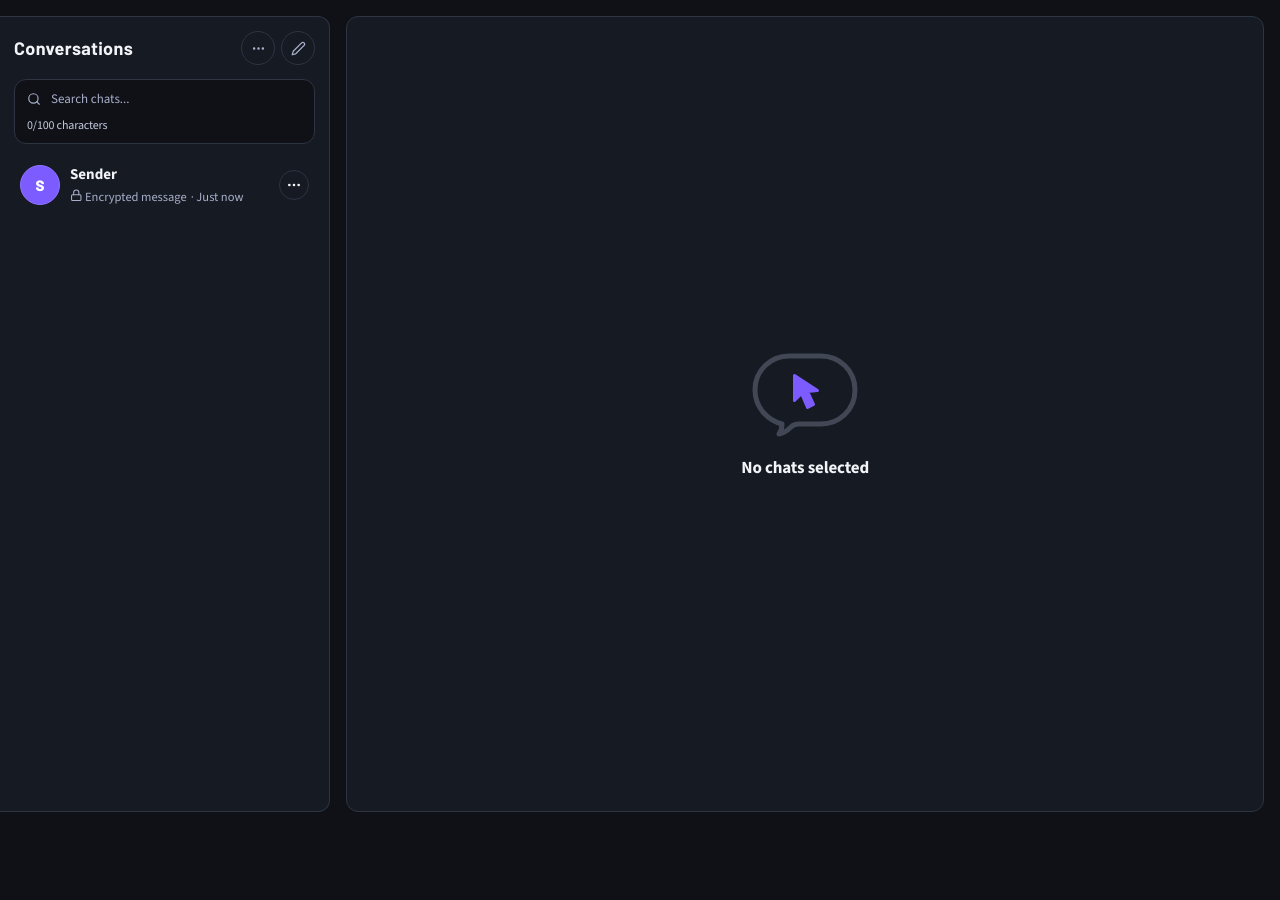
Test: a chat with someone you blocked › the Blocked list › opens the chat you already have with a blocked person
Click the button named "more".
click(258, 48)  # box [241, 31, 275, 65]
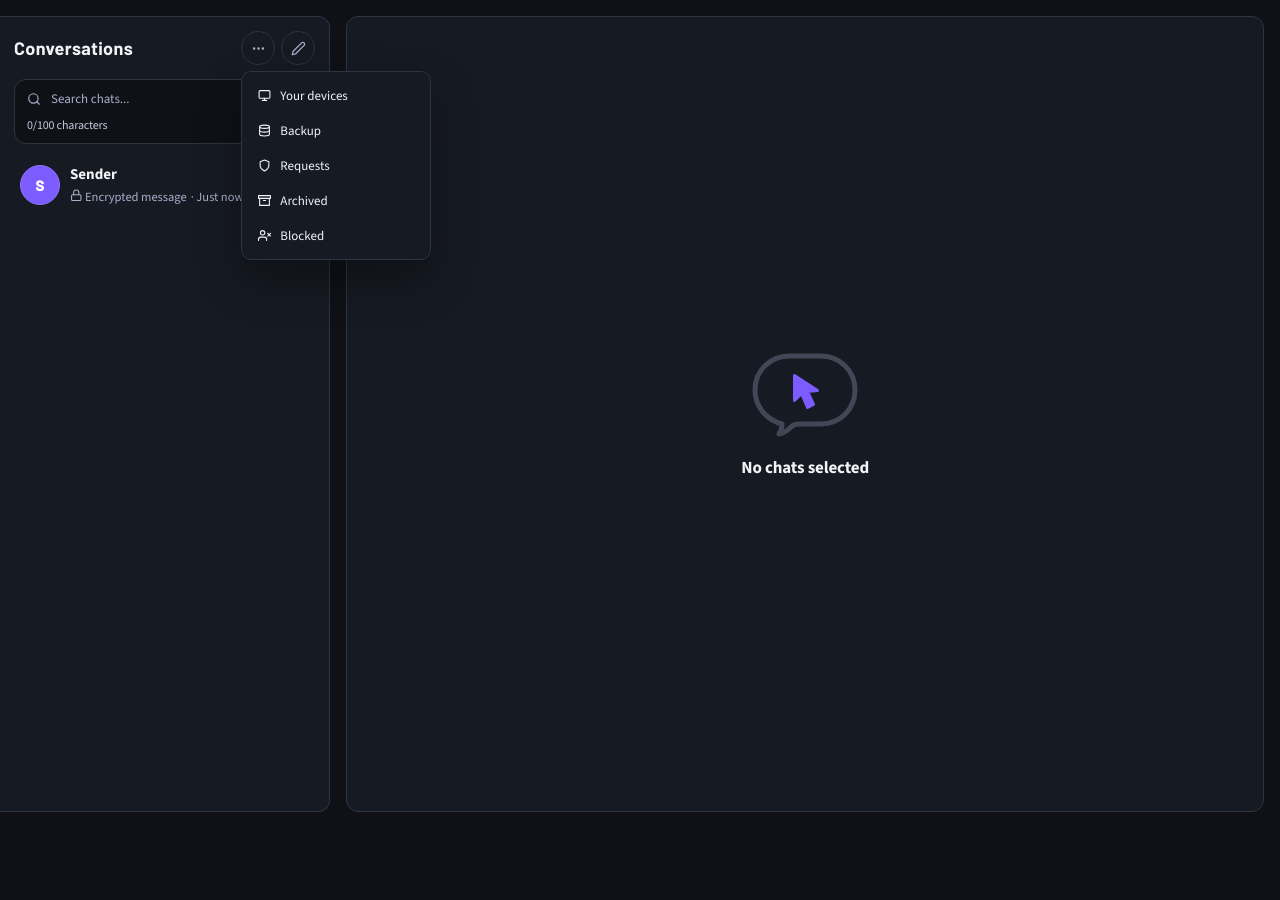
Click the menu item "Blocked".
click(336, 236)  # box [248, 218, 424, 253]
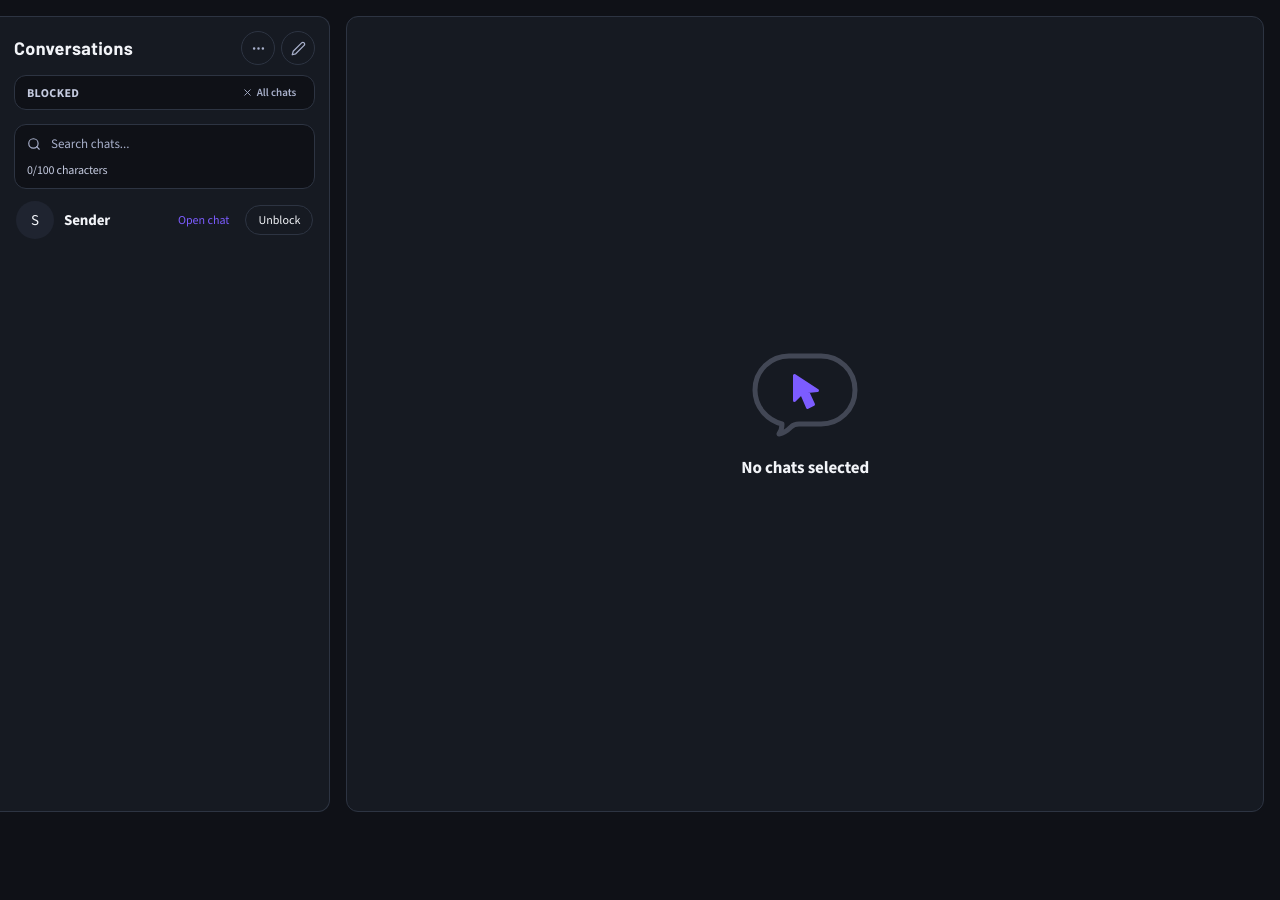
Click the button "Open chat".
click(204, 220)  # box [172, 211, 235, 229]
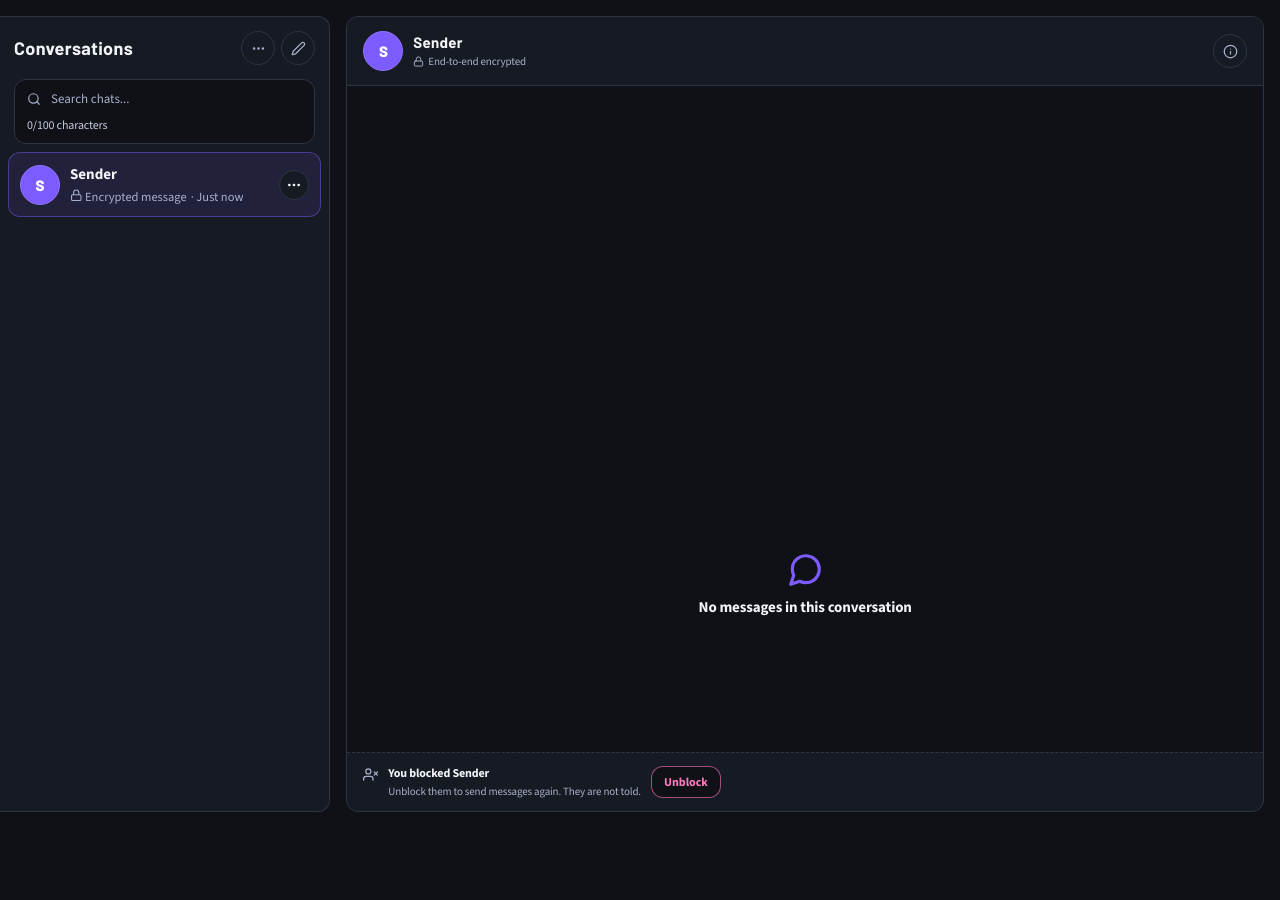
Now the text "You blocked Sender" is shown, box [388, 765, 489, 781]
